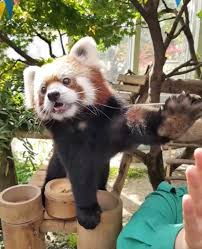redPanda: (14, 36, 167, 225)
